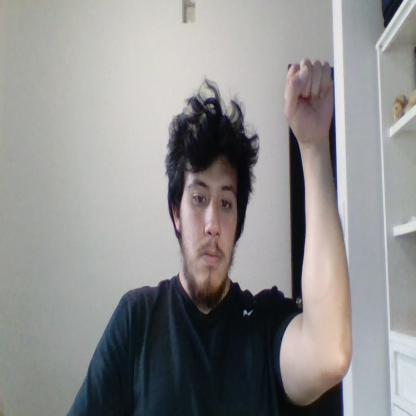S: (286, 58, 334, 143), (284, 60, 334, 135), (304, 91, 330, 127), (337, 140, 345, 144)
